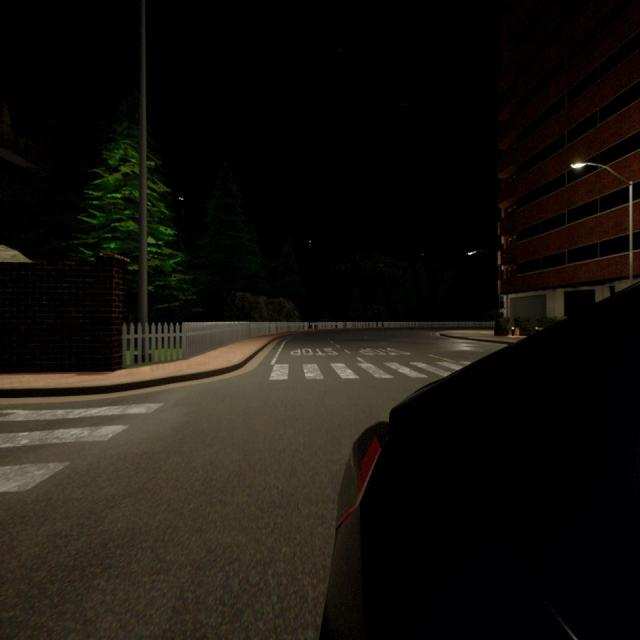Vehicle: (321, 284, 640, 640)
